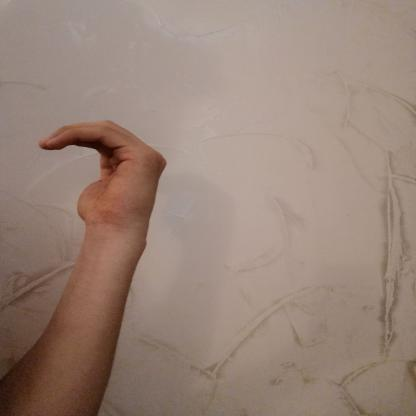HAA: (20, 106, 196, 240)
